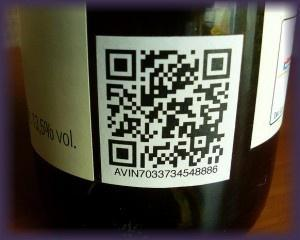Finder pattern: (101, 46, 138, 83), (200, 45, 233, 80), (103, 136, 138, 169)
